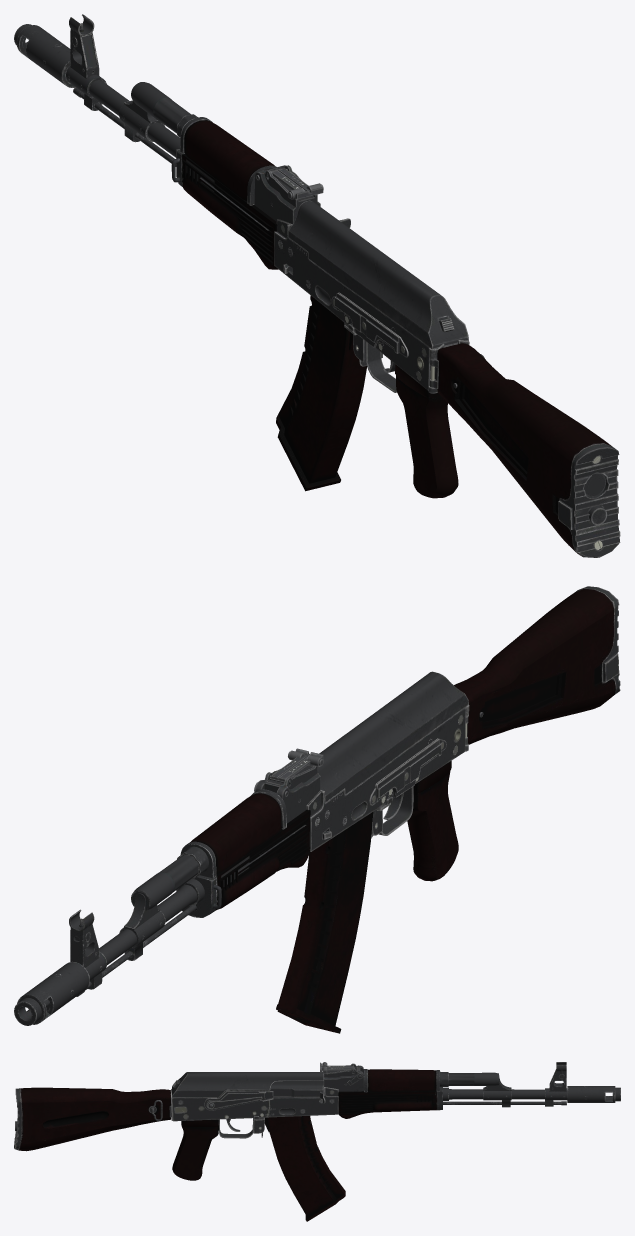
The model's file is rifle_tp.glb.
3 views of the same model, one above another, from view 1: azimuth 30°, elevation 25°; view 2: azimuth 150°, elevation 25°; view 3: azimuth 270°, elevation 25° (orthographic). The views are drawn at different scales.
Visible parts, largest first — view 1: Stock_lowT, Magazine_lowT, ReceiverCover_lowT, Handle_lowT, Receiver_lowT, GasOutletPipe_lowT, Forend_lowT, Barrel2_lowT, IronsightFront_lowT, Barrel1_lowT, Forend1_lowT, SightBlock_lowT (+4 smaller); view 2: Stock_lowT, Magazine_lowT, ReceiverCover_lowT, Receiver_lowT, GasOutletPipe_lowT, Handle_lowT, Forend_lowT, Barrel2_lowT, Barrel1_lowT, Forend1_lowT, SightBlock_lowT, IronsightFront_lowT (+5 smaller); view 3: Stock_lowT, Magazine_lowT, Receiver_lowT, ReceiverCover_lowT, Forend_lowT, Handle_lowT, GasOutletPipe_lowT, Barrel2_lowT, Forend1_lowT, Shutter_lowT, Barrel1_lowT, ModeSwitch_lowT (+5 smaller).
Part boxes in pixels (bbox=[...]): Stock_lowT: bbox=[437, 343, 620, 557]; Magazine_lowT: bbox=[276, 295, 366, 491]; ReceiverCover_lowT: bbox=[288, 200, 468, 349]; Handle_lowT: bbox=[395, 364, 458, 498]; Receiver_lowT: bbox=[274, 219, 457, 390]; GasOutletPipe_lowT: bbox=[177, 114, 277, 205]; Forend_lowT: bbox=[176, 149, 278, 269]; Barrel2_lowT: bbox=[119, 82, 190, 142]; IronsightFront_lowT: bbox=[66, 14, 106, 110]; Barrel1_lowT: bbox=[14, 24, 75, 87]; Forend1_lowT: bbox=[182, 159, 273, 264]; SightBlock_lowT: bbox=[254, 165, 320, 224]; Stock_lowT: bbox=[454, 586, 620, 744]; Magazine_lowT: bbox=[276, 812, 373, 1033]; ReceiverCover_lowT: bbox=[308, 671, 468, 803]; Receiver_lowT: bbox=[306, 707, 465, 851]; GasOutletPipe_lowT: bbox=[177, 789, 286, 878]; Handle_lowT: bbox=[407, 761, 458, 881]; Forend_lowT: bbox=[176, 810, 310, 917]; Barrel2_lowT: bbox=[119, 854, 198, 960]; Barrel1_lowT: bbox=[14, 961, 89, 1025]; Forend1_lowT: bbox=[218, 817, 310, 903]; SightBlock_lowT: bbox=[255, 765, 320, 823]; IronsightFront_lowT: bbox=[69, 909, 106, 989]; Stock_lowT: bbox=[14, 1087, 171, 1151]; Magazine_lowT: bbox=[264, 1116, 345, 1221]; Receiver_lowT: bbox=[172, 1087, 338, 1121]; ReceiverCover_lowT: bbox=[172, 1072, 323, 1098]; Forend_lowT: bbox=[338, 1087, 448, 1118]; Handle_lowT: bbox=[172, 1119, 218, 1180]; GasOutletPipe_lowT: bbox=[364, 1069, 448, 1092]; Barrel2_lowT: bbox=[448, 1072, 511, 1107]; Forend1_lowT: bbox=[340, 1094, 435, 1114]; Shutter_lowT: bbox=[270, 1081, 325, 1103]; Barrel1_lowT: bbox=[567, 1086, 620, 1102]; ModeSwitch_lowT: bbox=[204, 1091, 273, 1110].
Size of the model in its own units: 0.0657 by 0.263 by 0.94.
1 material, 1 textured.
